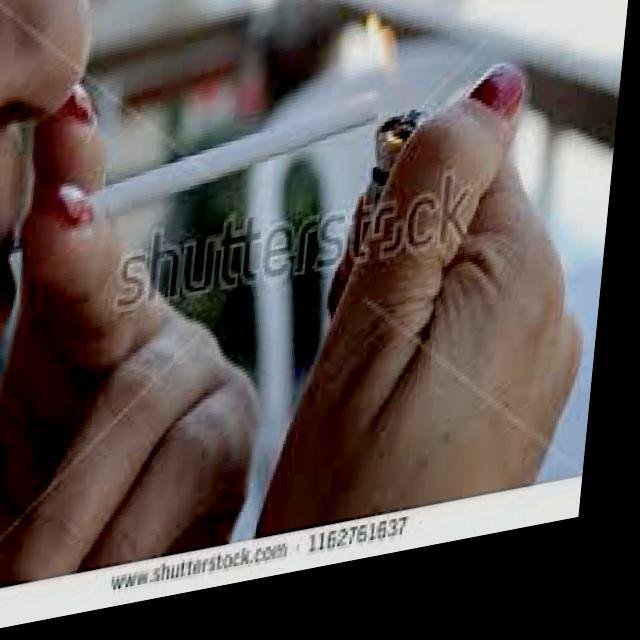Fire: (334, 10, 437, 146)
